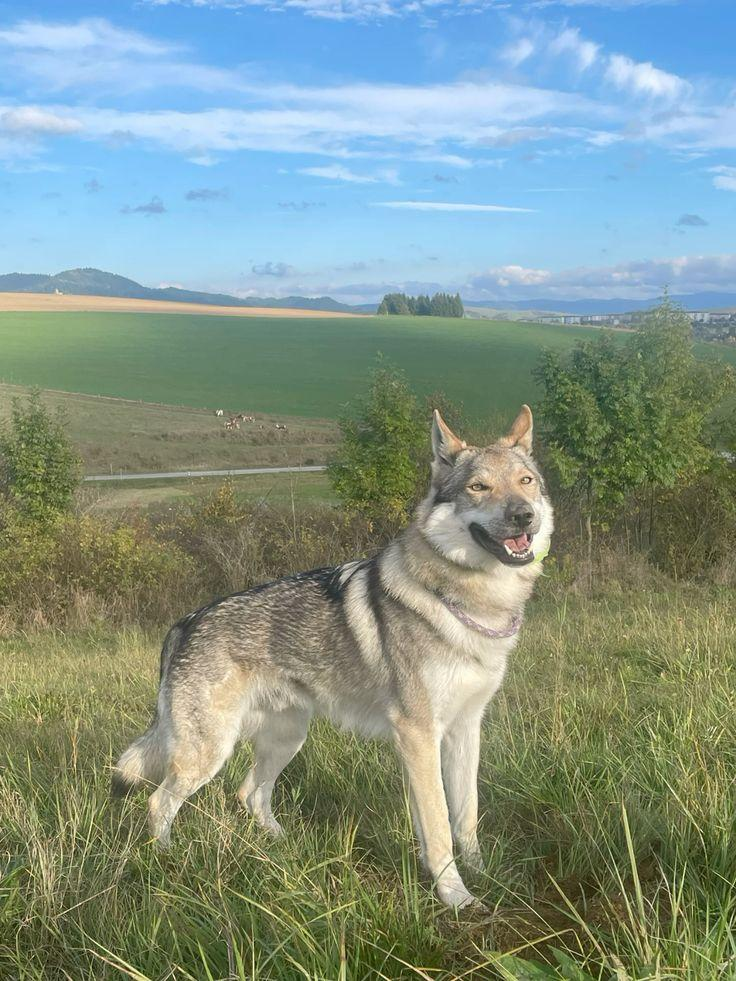dog: (113, 406, 552, 905)
